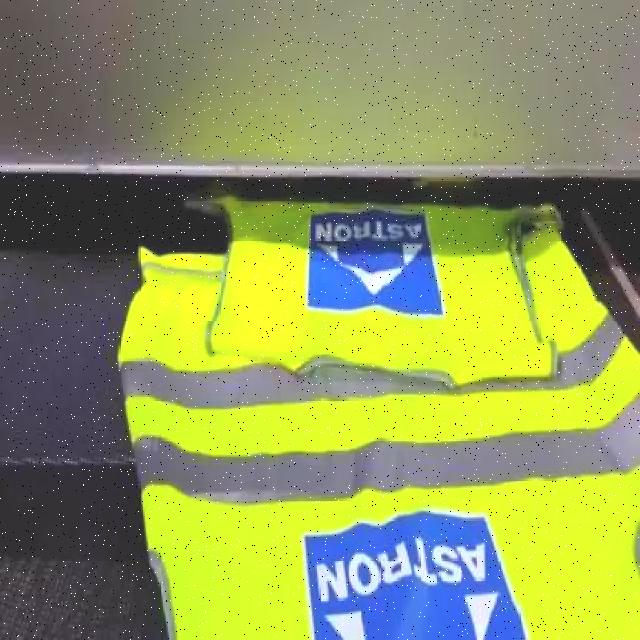Mask: (116, 216, 638, 638)
